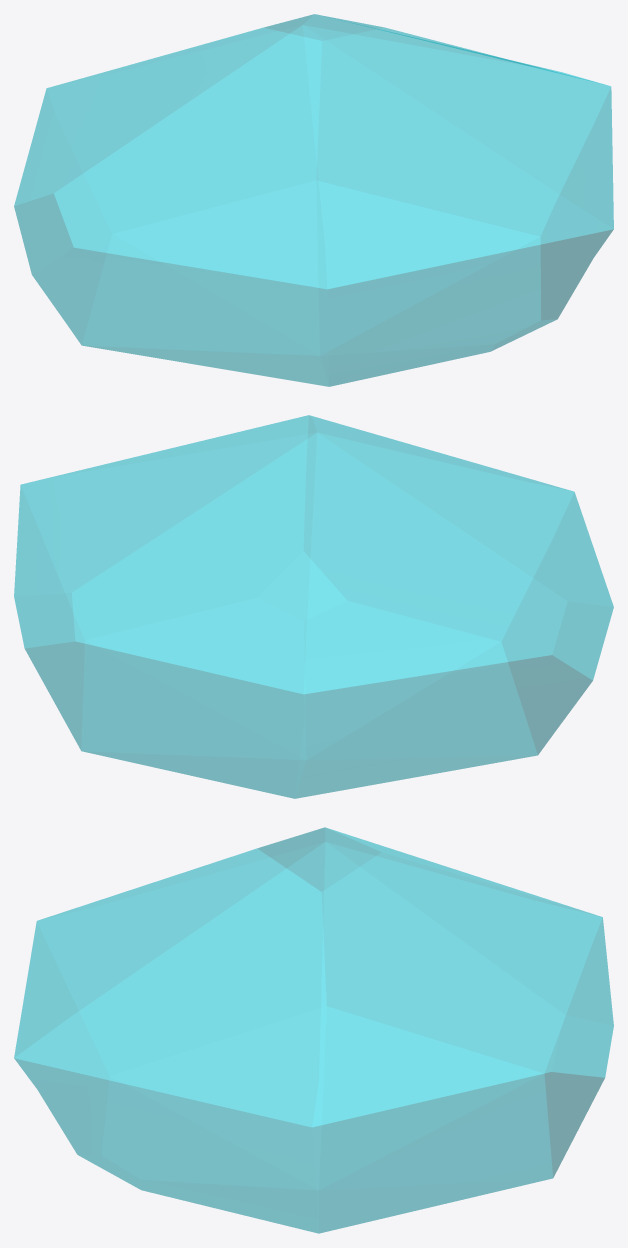
The model's file is Crystal5.fbx.
3 views of the same model, one above another, from view 1: azimuth 30°, elevation 25°; view 2: azimuth 150°, elevation 25°; view 3: azimuth 270°, elevation 25° (orthographic). The views are drawn at different scales.
Visible parts, largest first — view 1: Crystal5; view 2: Crystal5; view 3: Crystal5.
Boxes of the visible parts, left/top/right/bottom form: Crystal5: left=14, top=14, right=613, bottom=386; Crystal5: left=14, top=415, right=613, bottom=798; Crystal5: left=14, top=827, right=613, bottom=1233.
Bounding box in the file's own units: 1.07 × 0.5913 × 0.9413.
